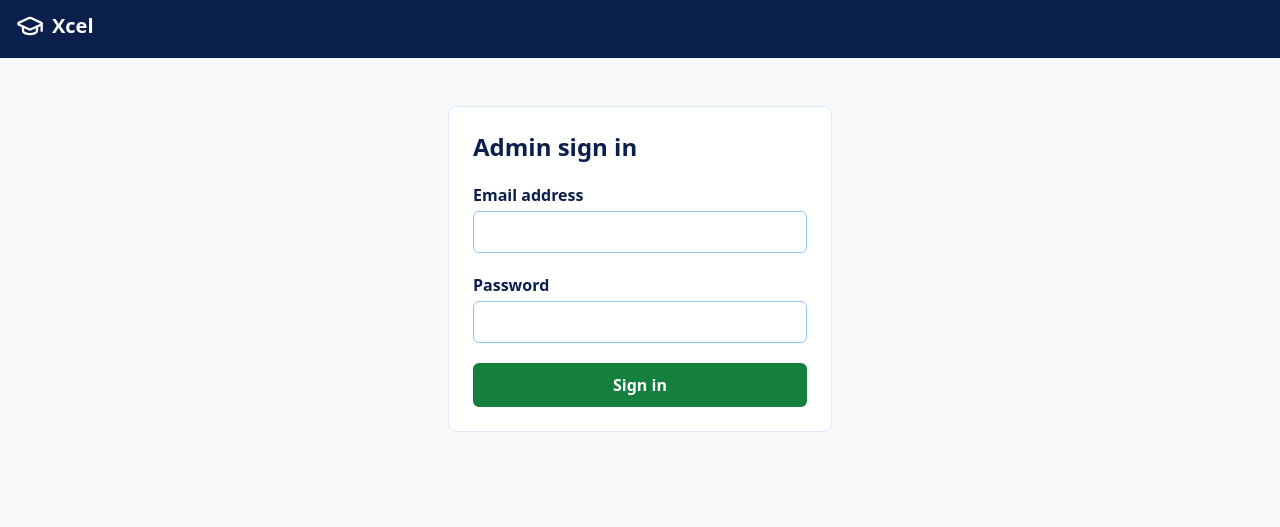
admin sign-in › shows the server error and clears the password on a failed sign-in
Type "admin@example.com" into the field labelled "Email address" at {"x": 640, "y": 232}, box [473,211,807,253]
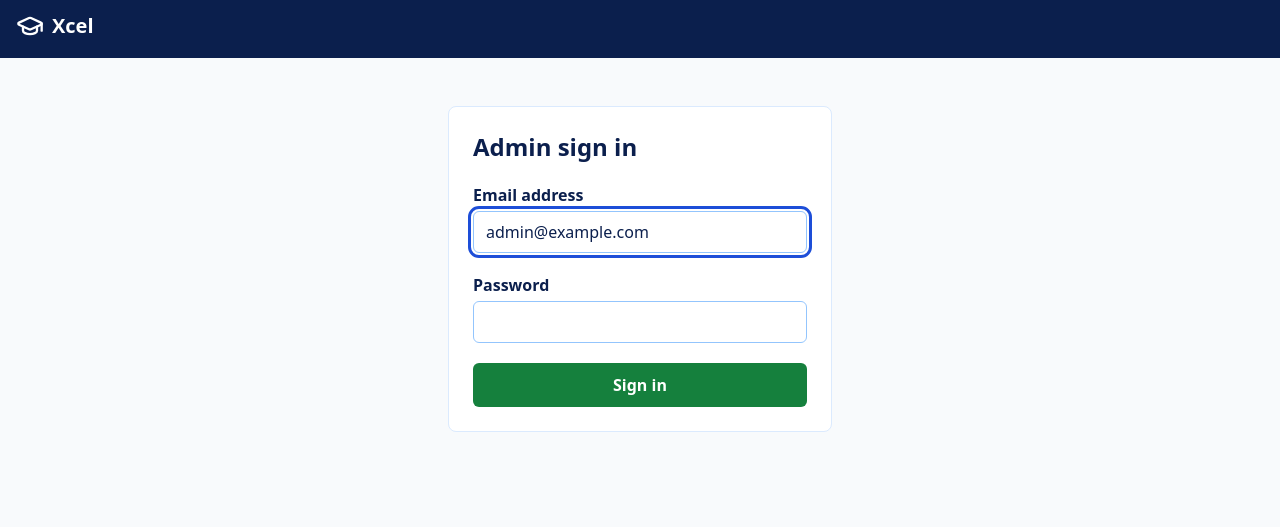
Type "wrong" into the password field labelled "Password" at {"x": 640, "y": 322}, box [473,301,807,343]
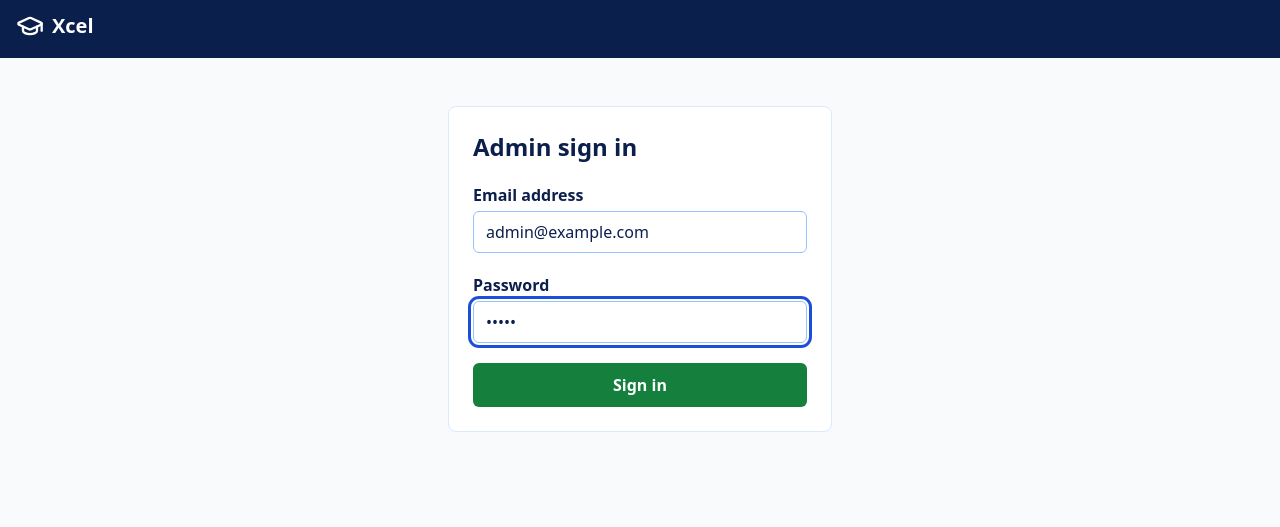
Click the button "Sign in" at {"x": 640, "y": 385}, box [473,363,807,407]
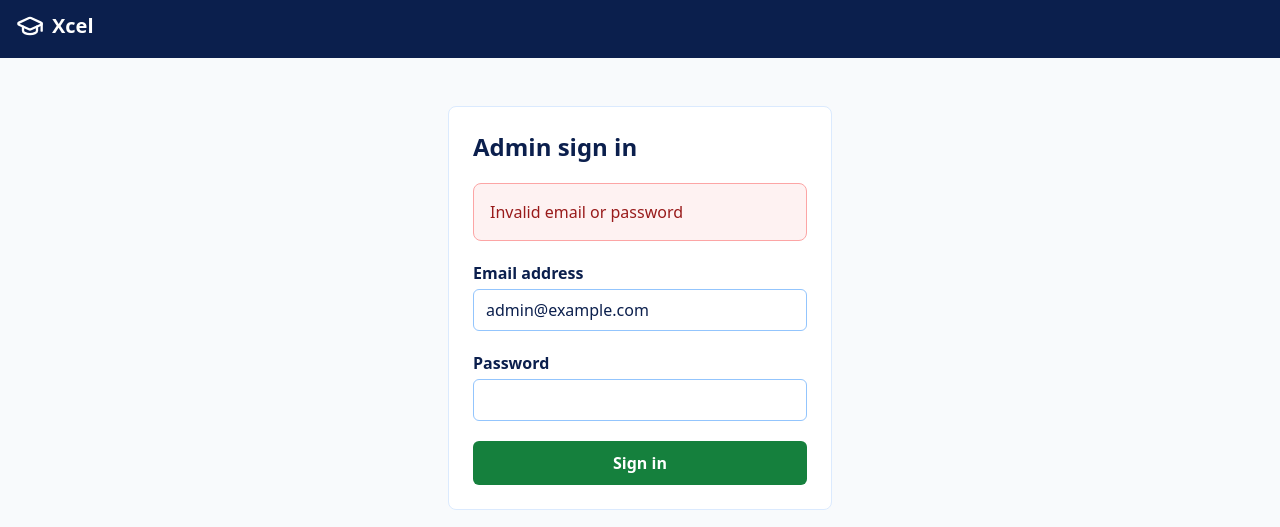
Expected: the message reads "Invalid email or password", [490,201,683,223]
Expected: the password field labelled "Password" is empty, [473,379,807,421]
